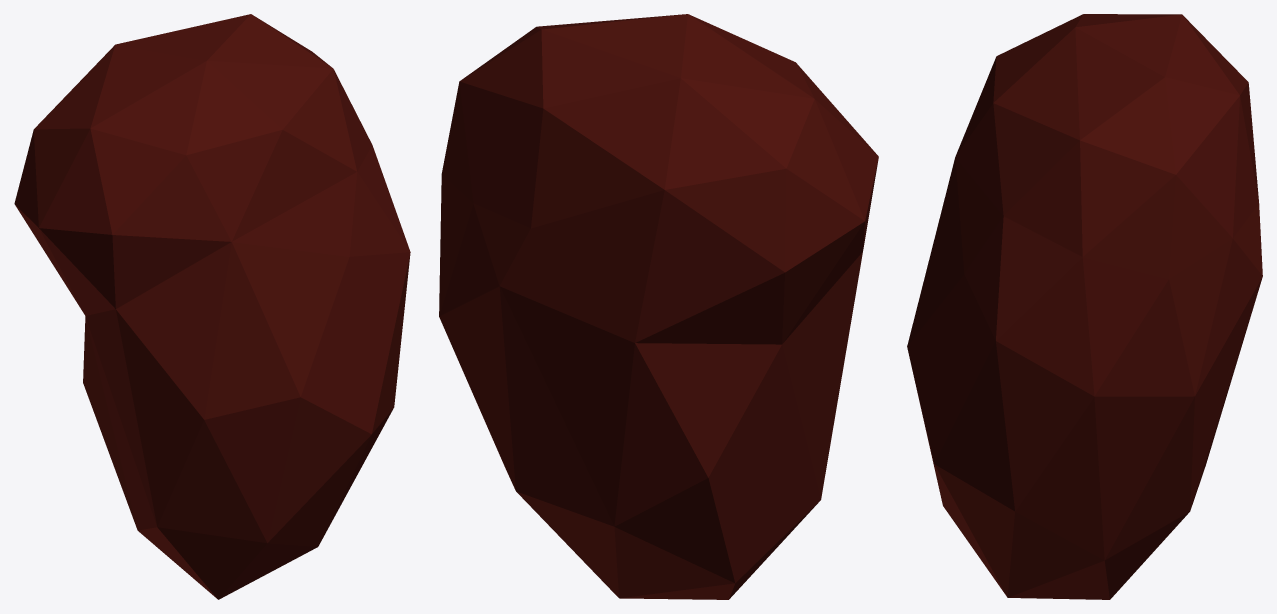
The model's file is ITAT_FIREGOLEM_01.OBJ.
3 renders of one model, left to right at view 1: azimuth 30°, elevation 25°; view 2: azimuth 150°, elevation 25°; view 3: azimuth 270°, elevation 25°, orthographic. The views are drawn at different scales.
Parts seen in each view (by area): view 1: ITAT_FIREGOLEM_01; view 2: ITAT_FIREGOLEM_01; view 3: ITAT_FIREGOLEM_01.
Part boxes in pixels (x1,y1,x2,y2): ITAT_FIREGOLEM_01: (14, 14, 410, 599); ITAT_FIREGOLEM_01: (439, 14, 878, 599); ITAT_FIREGOLEM_01: (907, 14, 1262, 599).
Size of the model in its own units: 0.2162 by 0.3053 by 0.1735.
